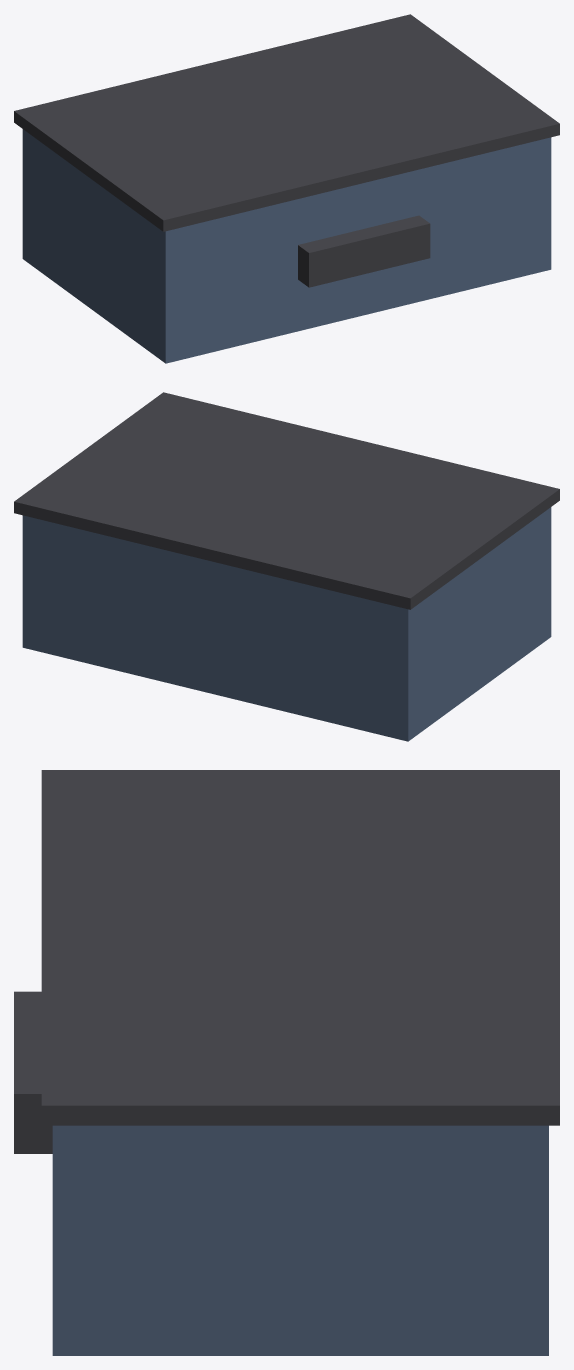
Rendered from v2_suitcase_blue.glb.
The picture shows the model from 3 angles, top to bottom: view 1: azimuth 30°, elevation 25°; view 2: azimuth 150°, elevation 25°; view 3: azimuth 270°, elevation 25°; orthographic projection. The views are drawn at different scales.
Visible parts, largest first — view 1: v2_suitcase_blue; view 2: v2_suitcase_blue; view 3: v2_suitcase_blue.
Boxes of the visible parts, <box> form: v2_suitcase_blue: <box>14,14,559,363</box>; v2_suitcase_blue: <box>14,392,559,741</box>; v2_suitcase_blue: <box>14,770,559,1355</box>.
Bounding box in the file's own units: 0.72 × 0.255 × 0.495.
